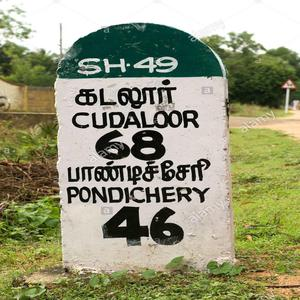kmstone: (52, 22, 244, 280)
